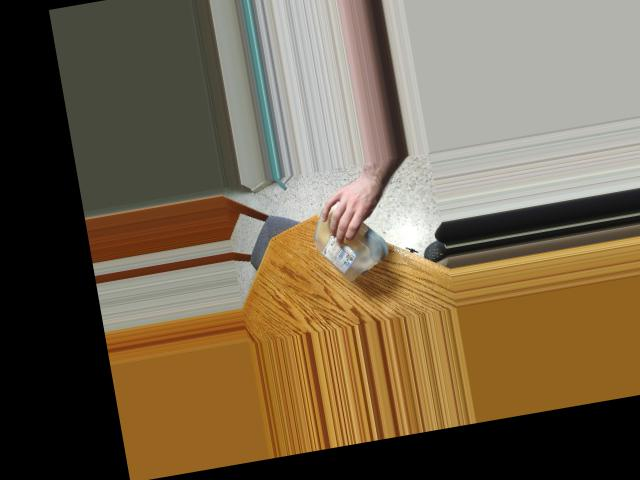cheese: (304, 188, 392, 289)
